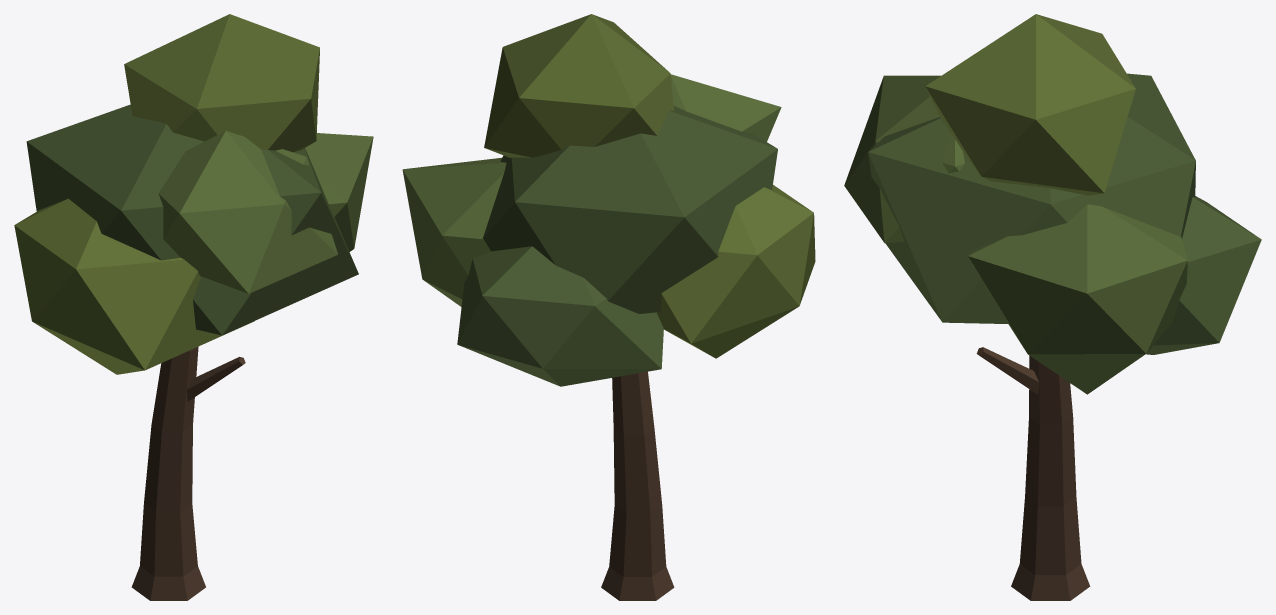
File: arvore_3.glb
3 renders of one model, left to right at view 1: azimuth 30°, elevation 25°; view 2: azimuth 150°, elevation 25°; view 3: azimuth 270°, elevation 25°, orthographic. The views are drawn at different scales.
Visible parts, largest first — view 1: arvore_3.001; view 2: arvore_3.001; view 3: arvore_3.001.
Boxes of the visible parts, x1=… form: arvore_3.001: x1=14, y1=14, x2=373, y2=600; arvore_3.001: x1=402, y1=14, x2=815, y2=600; arvore_3.001: x1=844, y1=14, x2=1261, y2=600.
Size of the model in its own units: 3.11 by 4.51 by 2.84.
